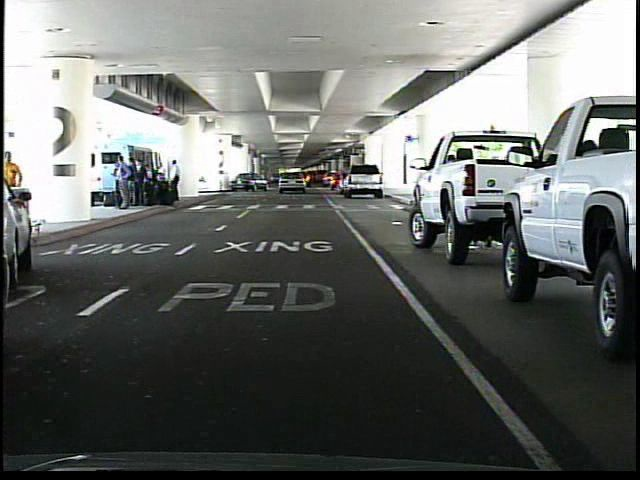person: (5, 148, 34, 237)
